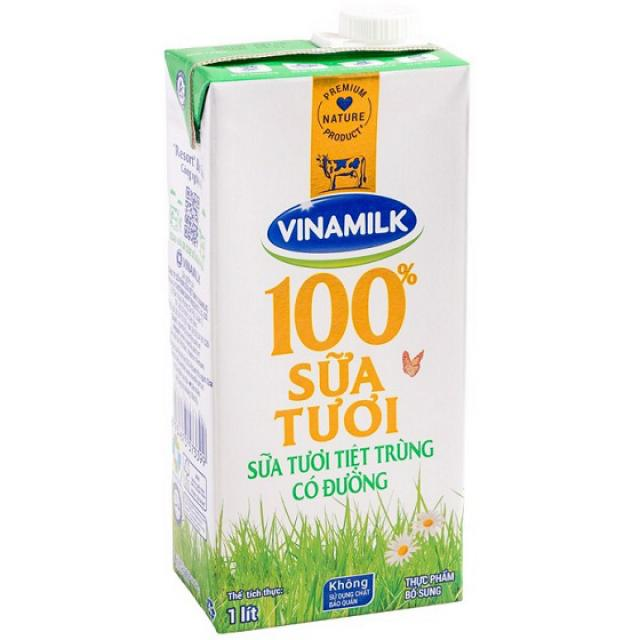non_white_jug: (148, 9, 484, 621)
